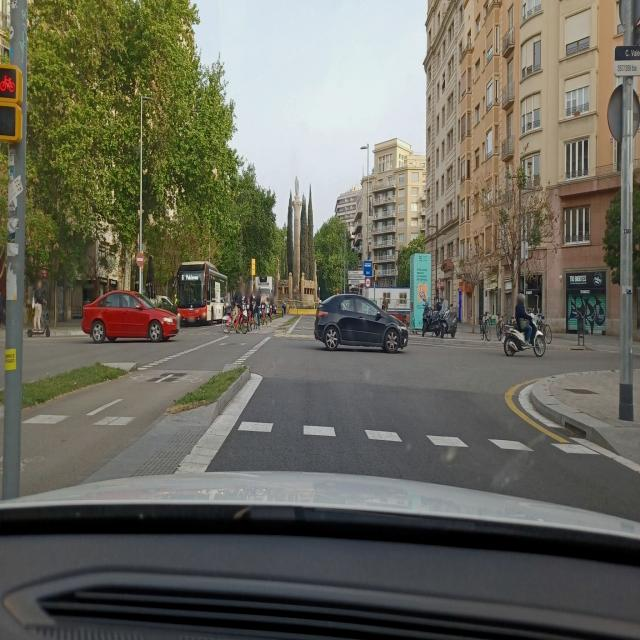bike: (503, 307, 546, 357), (223, 302, 250, 335), (432, 303, 457, 338), (421, 304, 441, 337), (534, 311, 553, 345), (478, 312, 493, 343), (251, 305, 263, 330), (495, 314, 506, 340), (260, 302, 268, 328), (269, 306, 275, 324), (282, 302, 286, 317)
car: (313, 293, 407, 353), (81, 290, 180, 344)
